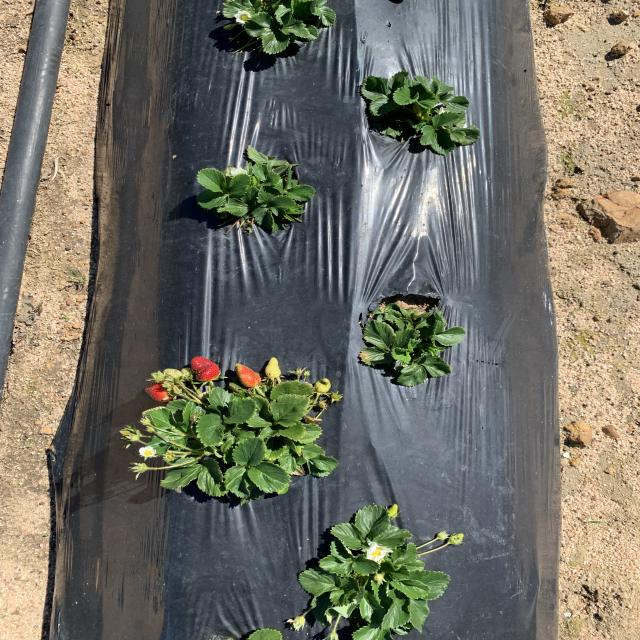unripe: (139, 379, 185, 404), (190, 355, 222, 384)
